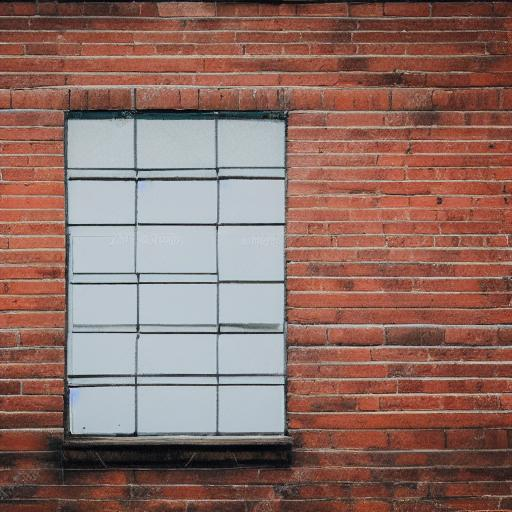Window: (57, 88, 297, 459)
